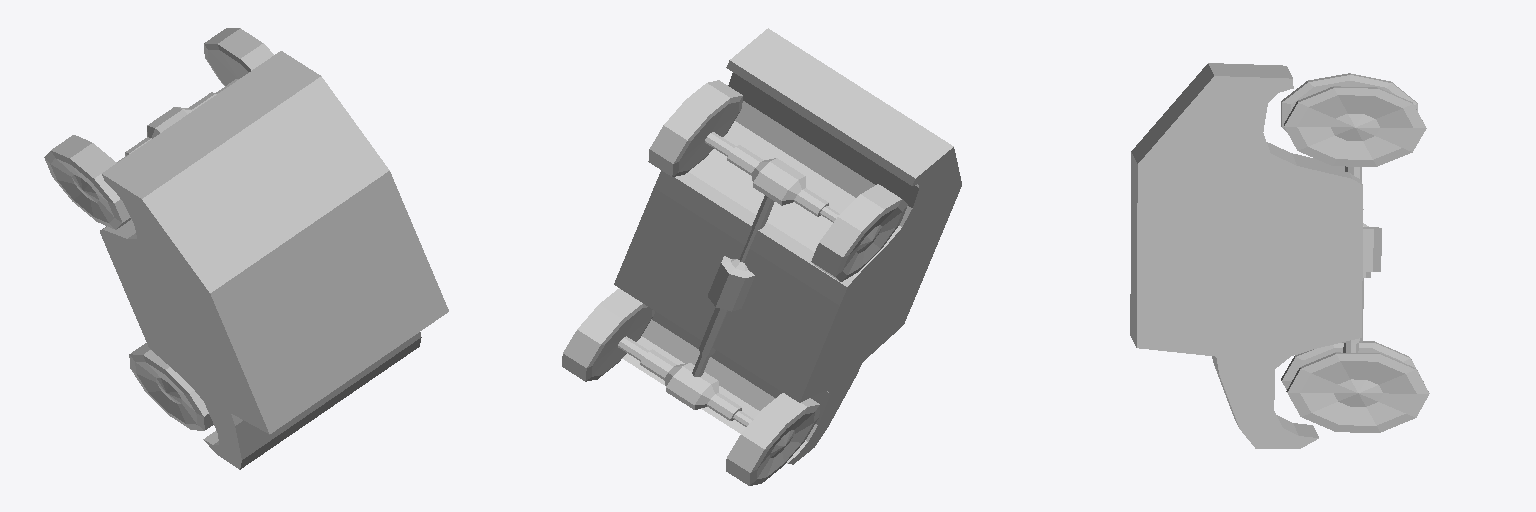
The model's file is humvee.obj.
3 renders of one model, left to right at view 1: azimuth 30°, elevation 25°; view 2: azimuth 150°, elevation 25°; view 3: azimuth 270°, elevation 25°, orthographic.
Visible parts, largest first — view 1: HUMMWV.001; view 2: HUMMWV.001; view 3: HUMMWV.001.
Boxes of the visible parts, <box> form: HUMMWV.001: <box>44,28,448,469</box>; HUMMWV.001: <box>562,28,961,485</box>; HUMMWV.001: <box>1130,63,1429,448</box>.
Bounding box in the file's own units: 5.07 × 6.27 × 4.34.